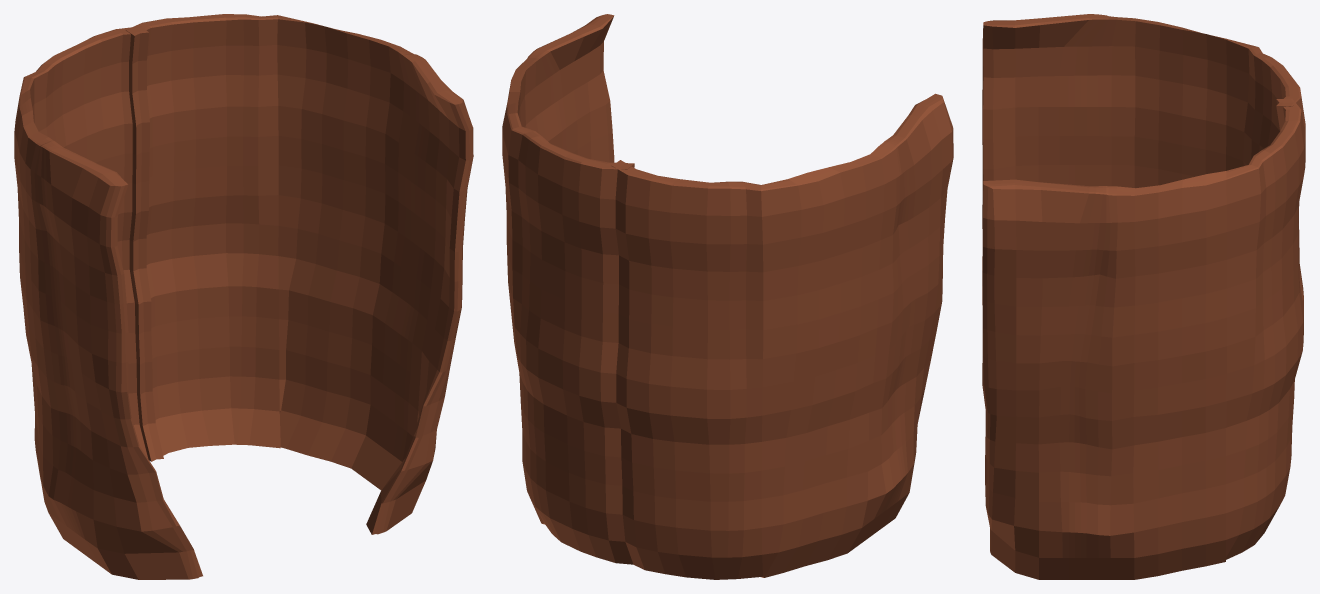
The model's file is Veil.fbx.
3 views of the same model, side by side, from view 1: azimuth 30°, elevation 25°; view 2: azimuth 150°, elevation 25°; view 3: azimuth 270°, elevation 25° (orthographic). The views are drawn at different scales.
Visible parts, largest first — view 1: VEIL; view 2: VEIL; view 3: VEIL.
Part boxes in pixels (x1,y1,x2,y2): VEIL: (14,14,473,579); VEIL: (502,14,953,579); VEIL: (982,14,1305,579).
Bounding box in the file's own units: 43.33 × 44.63 × 32.29.
